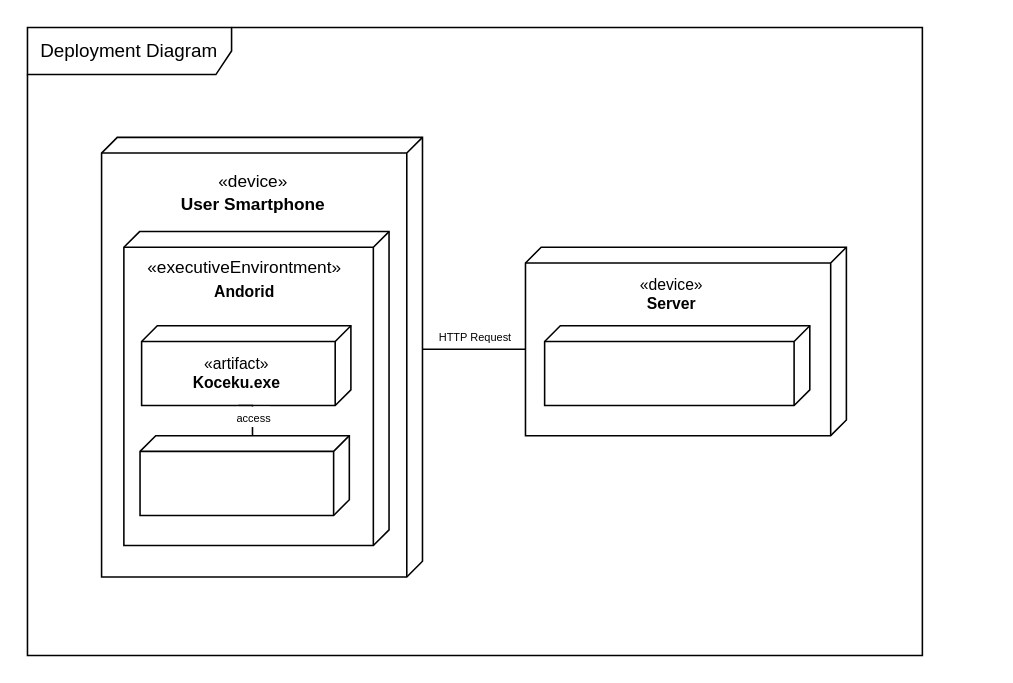
Image size: 1013x683. Some labels were removed from this diagram. Here are the shapes that lost their labels. From the top down, the centre of each, then its label:
(676,365): «artifact» kocekuDatabase.db
(243,474): «device» Internal Storage
